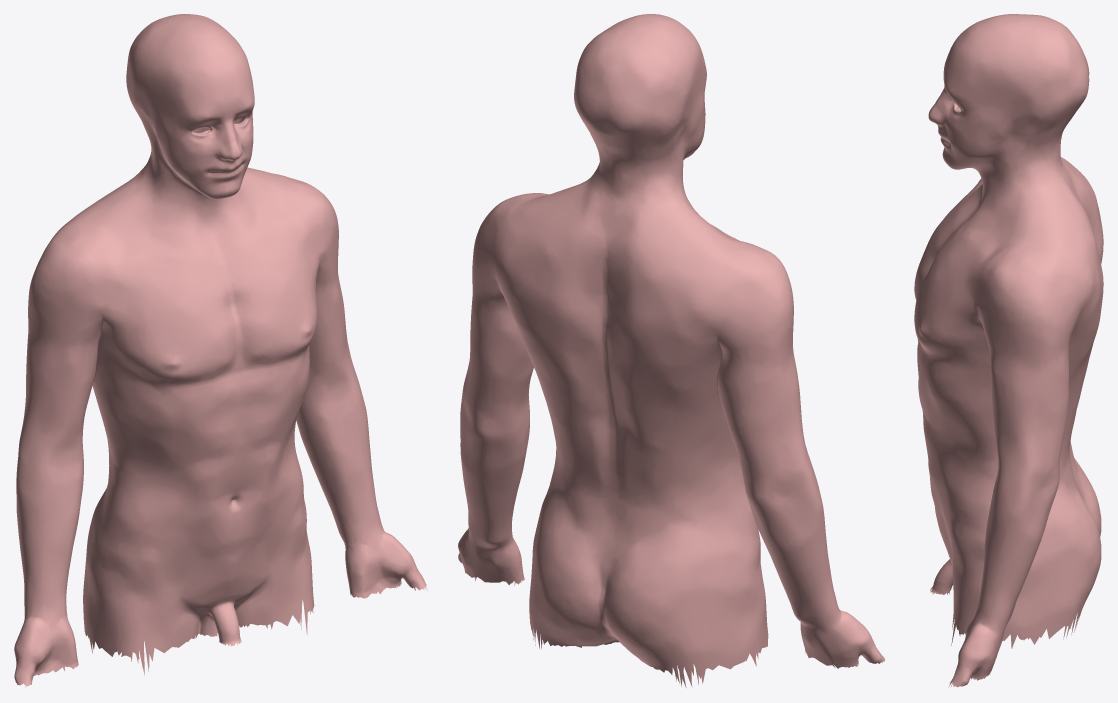
File: body-surface-upper.v1.glb
3 views of the same model, side by side, from view 1: azimuth 30°, elevation 25°; view 2: azimuth 150°, elevation 25°; view 3: azimuth 270°, elevation 25° (orthographic). The views are drawn at different scales.
Parts seen in each view (by area): view 1: skin_upper_body; view 2: skin_upper_body; view 3: skin_upper_body.
Part boxes in pixels (bbox=[...]): skin_upper_body: bbox=[14, 14, 427, 688]; skin_upper_body: bbox=[458, 14, 884, 687]; skin_upper_body: bbox=[914, 14, 1103, 687].
Size of the model in its own units: 0.6545 by 0.9329 by 0.2708.
